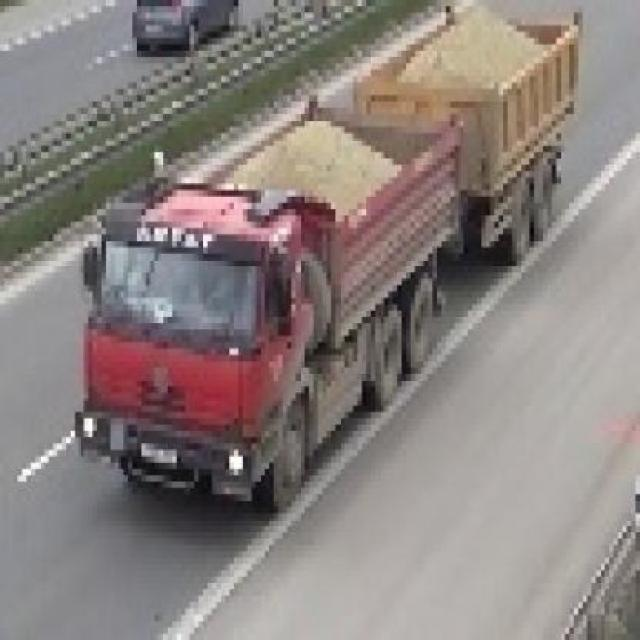truck: (76, 1, 575, 515)
